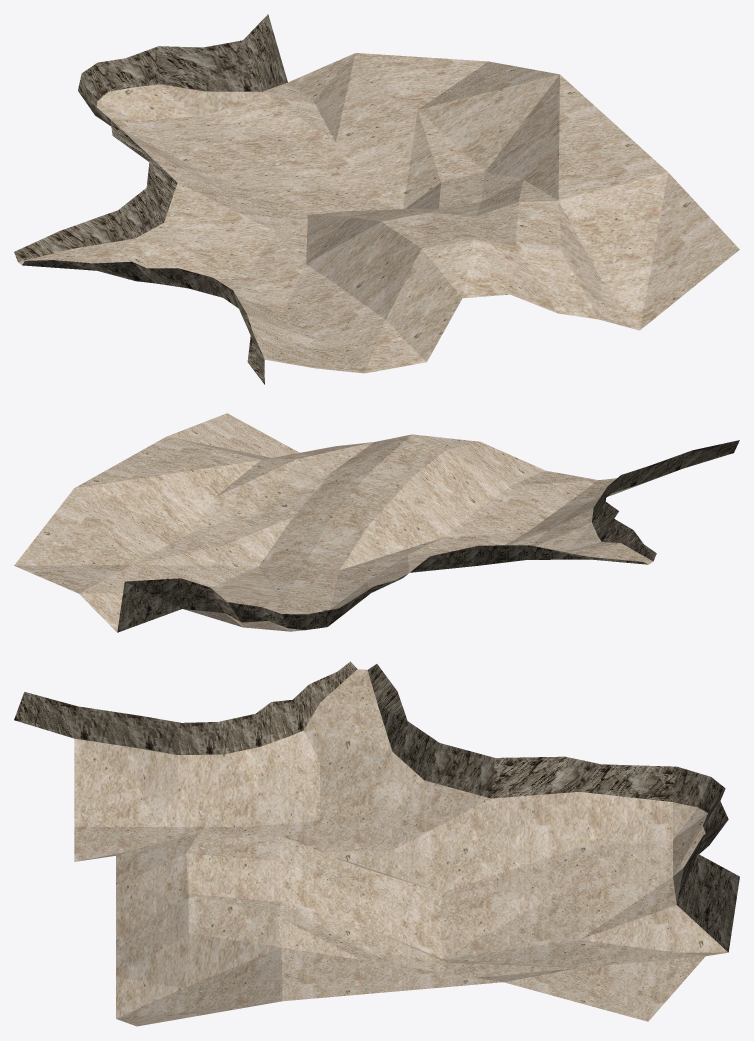
File: sbxseabed_cn07.obj
3 views of the same model, one above another, from view 1: azimuth 30°, elevation 25°; view 2: azimuth 150°, elevation 25°; view 3: azimuth 270°, elevation 25° (orthographic). The views are drawn at different scales.
Parts seen in each view (by area): view 1: sbxseabed_CN07; view 2: sbxseabed_CN07; view 3: sbxseabed_CN07.
Part boxes in pixels (left/top/right/bottom): sbxseabed_CN07: left=14, top=14, right=739, bottom=384; sbxseabed_CN07: left=14, top=413, right=739, bottom=632; sbxseabed_CN07: left=14, top=661, right=739, bottom=1026.
Size of the model in its own units: 410 by 69.44 by 415.
